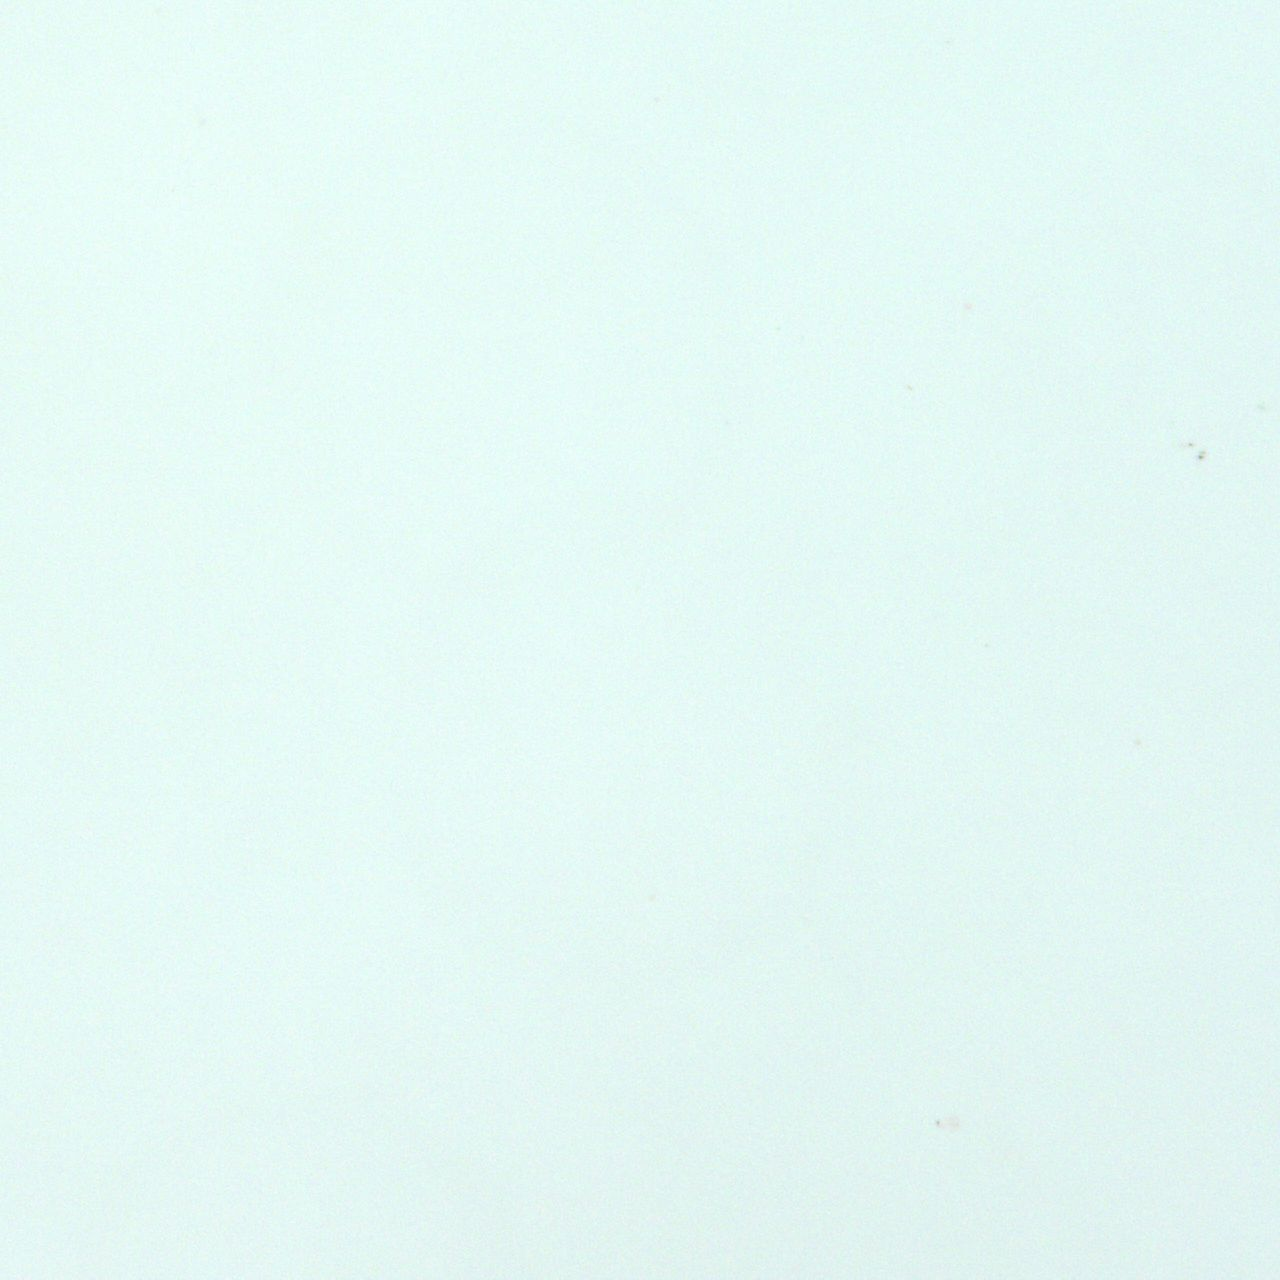dust: (1194, 452, 1203, 463), (935, 1118, 944, 1126)
